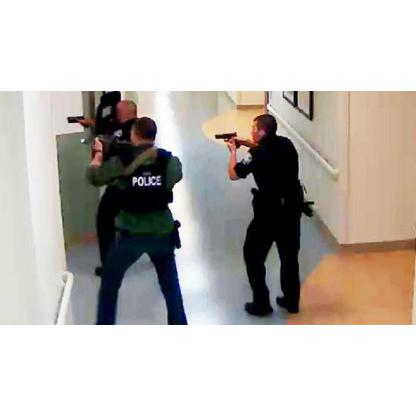gun: (215, 132, 239, 146), (68, 113, 88, 127)
